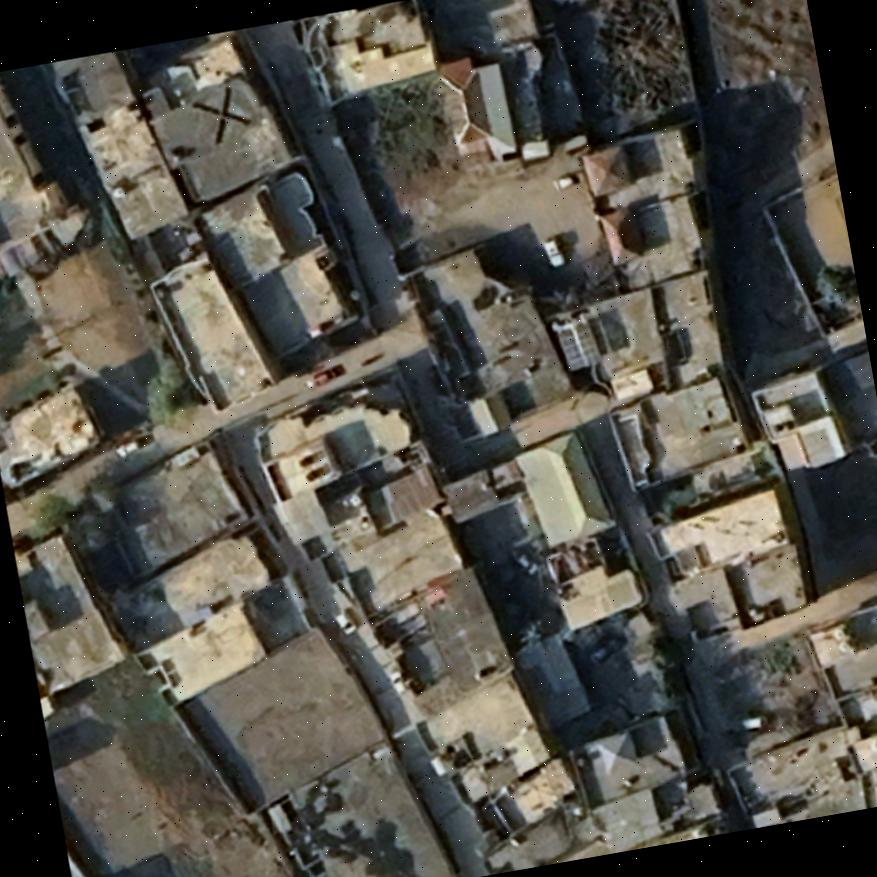Solarpanel: (553, 316, 604, 375)
